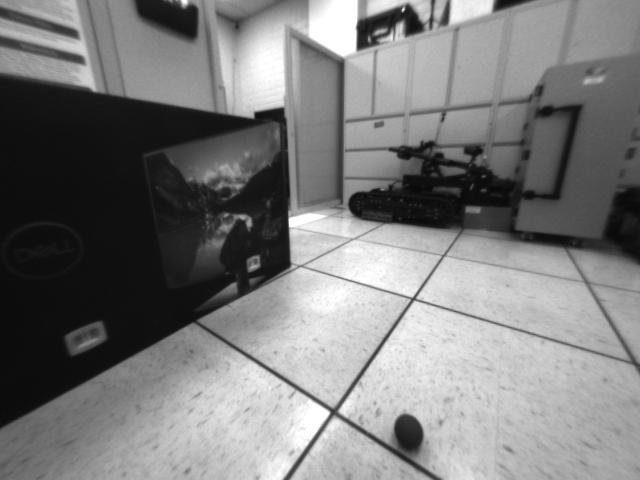dogtoy: (392, 404, 432, 456)
